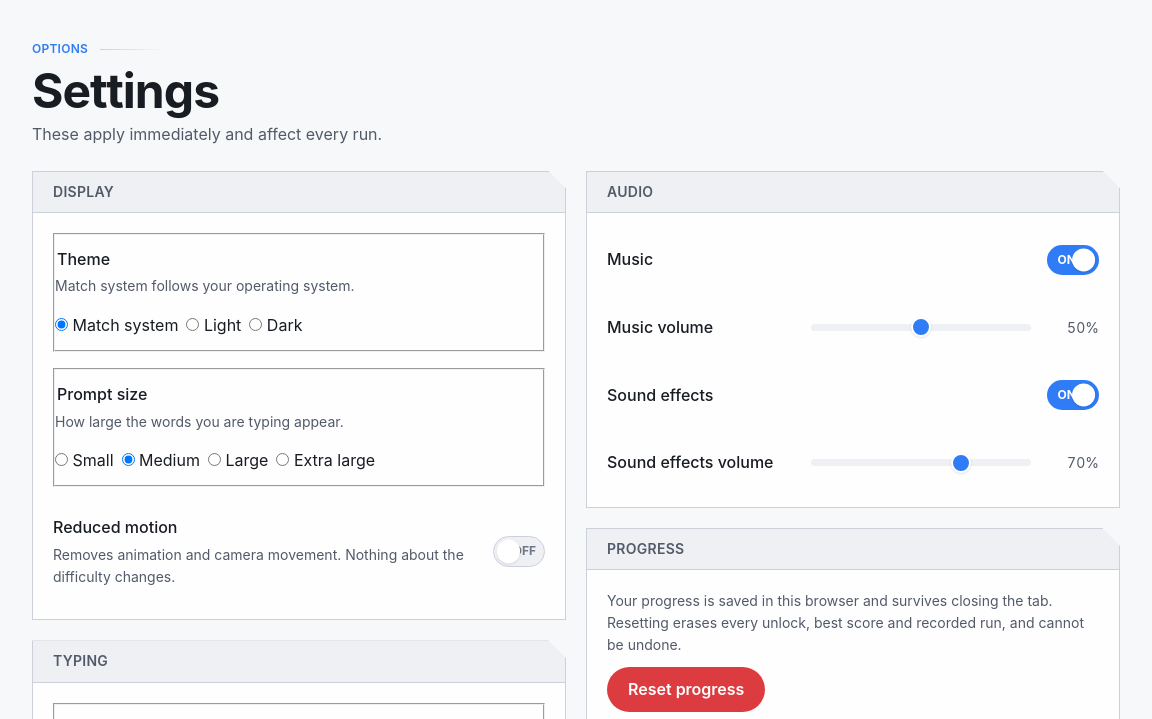
Test case: resetting progress › can be cancelled
The width and height of the screenshot is (1152, 719).
What coordinates should you click on to do the following:
click the button "Reset progress"
I would click on:
 (686, 689)
Its box is [607,667,765,712].
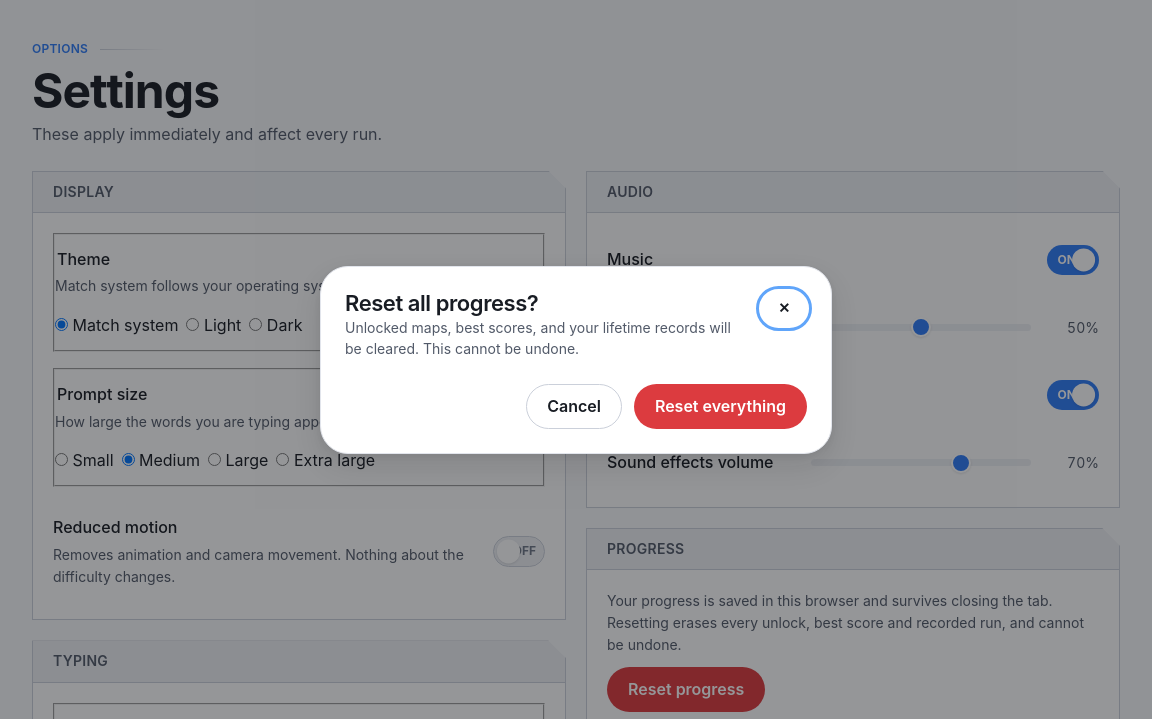
What coordinates should you click on to do the following:
click the button "Cancel"
I would click on:
 (574, 406)
Its box is [526,384,622,428].
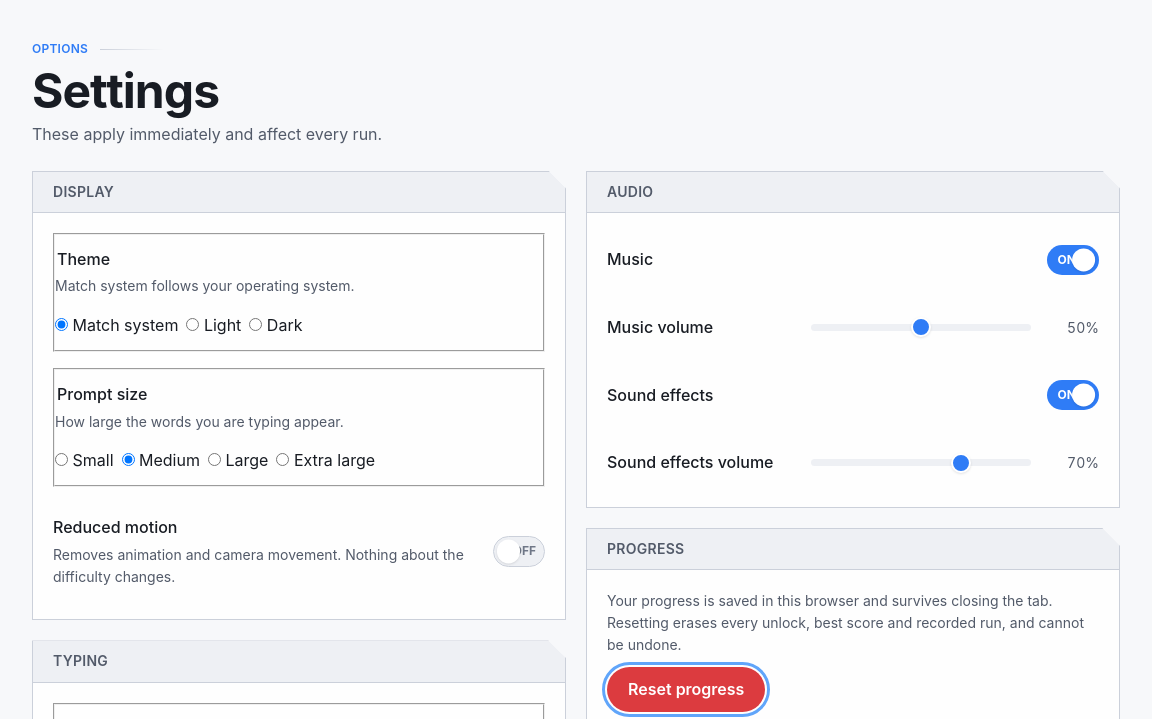
Expected: the dialog is gone
